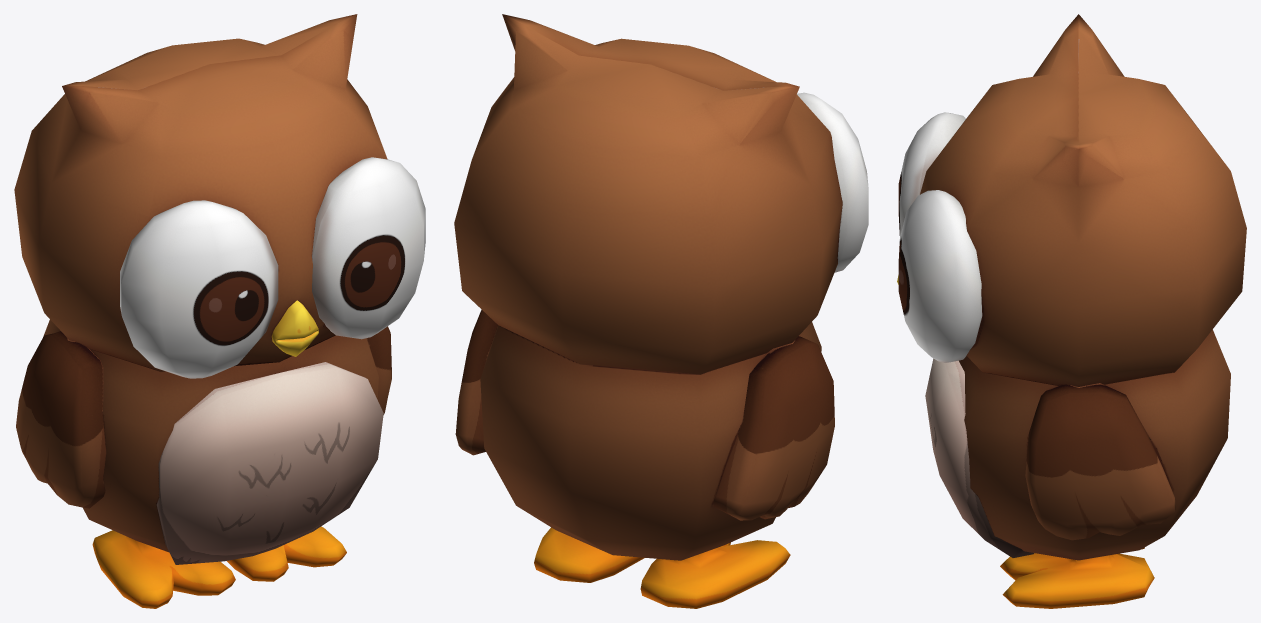
File: Burung_Hantu_texture.fbx
3 renders of one model, left to right at view 1: azimuth 30°, elevation 25°; view 2: azimuth 150°, elevation 25°; view 3: azimuth 270°, elevation 25°, orthographic. The views are drawn at different scales.
Visible parts, largest first — view 1: Cube.013, Sphere, Cube.007, Cube, Cube.006, Cube.005, Cube.003; view 2: Cube.013, Cube, Cube.006, Cube.005, Sphere; view 3: Cube.013, Cube, Cube.006, Sphere, Cube.005, Cube.007.
Part boxes in pixels (left/top/right/bottom): Cube.013: left=14, top=14, right=387, bottom=371; Sphere: left=120, top=157, right=425, bottom=378; Cube.007: left=156, top=362, right=383, bottom=564; Cube: left=43, top=319, right=378, bottom=552; Cube.006: left=16, top=326, right=391, bottom=508; Cube.005: left=92, top=526, right=346, bottom=608; Cube.003: left=271, top=300, right=318, bottom=356; Cube.013: left=454, top=14, right=842, bottom=374; Cube: left=480, top=322, right=821, bottom=560; Cube.006: left=455, top=309, right=834, bottom=520; Cube.005: left=534, top=527, right=790, bottom=608; Sphere: left=797, top=92, right=868, bottom=272; Cube.013: left=920, top=14, right=1246, bottom=386; Cube: left=959, top=329, right=1230, bottom=560; Cube.006: left=1025, top=383, right=1175, bottom=540; Sphere: left=898, top=112, right=982, bottom=362; Cube.005: left=1000, top=547, right=1154, bottom=608; Cube.007: left=925, top=358, right=1034, bottom=557.
Size of the model in its own units: 257 by 371 by 242.
